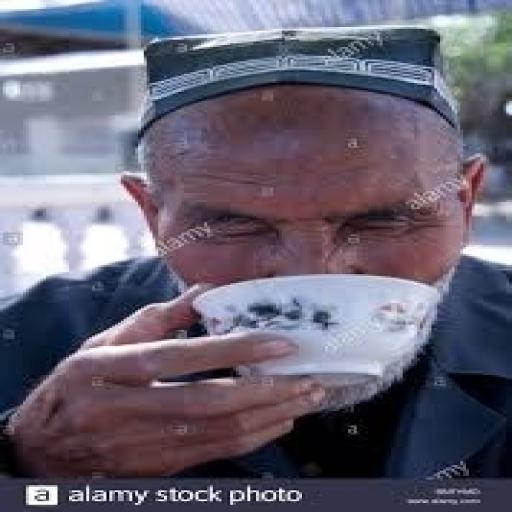drinking: (164, 272, 443, 390)
